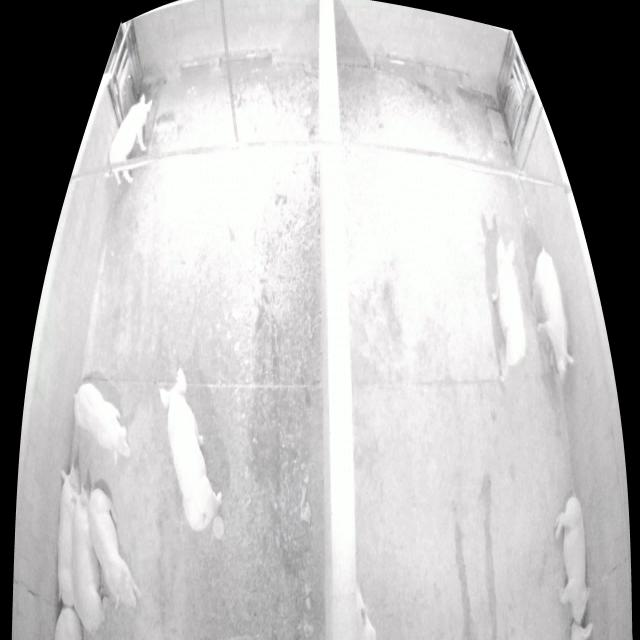pig: (160, 368, 222, 532), (89, 488, 142, 609), (532, 246, 573, 379), (71, 482, 106, 629), (491, 237, 526, 382), (73, 383, 130, 464), (555, 496, 588, 623), (110, 93, 152, 185), (58, 463, 80, 607), (356, 583, 376, 638), (56, 606, 82, 639)
